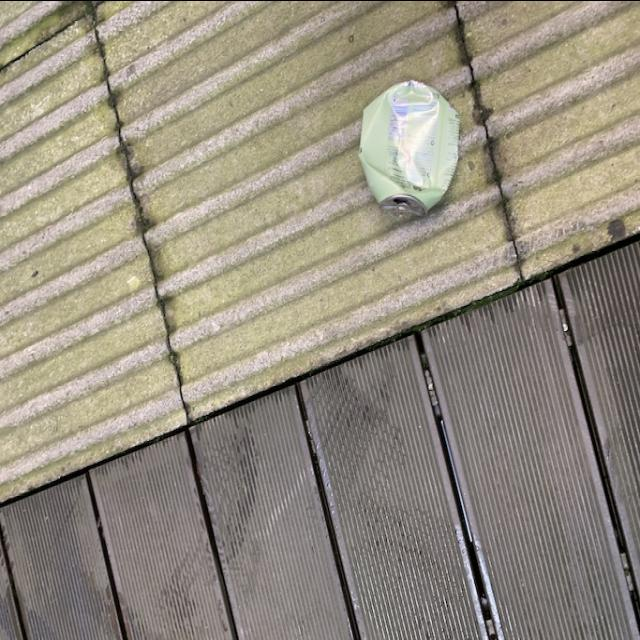litter: (352, 78, 469, 218)
